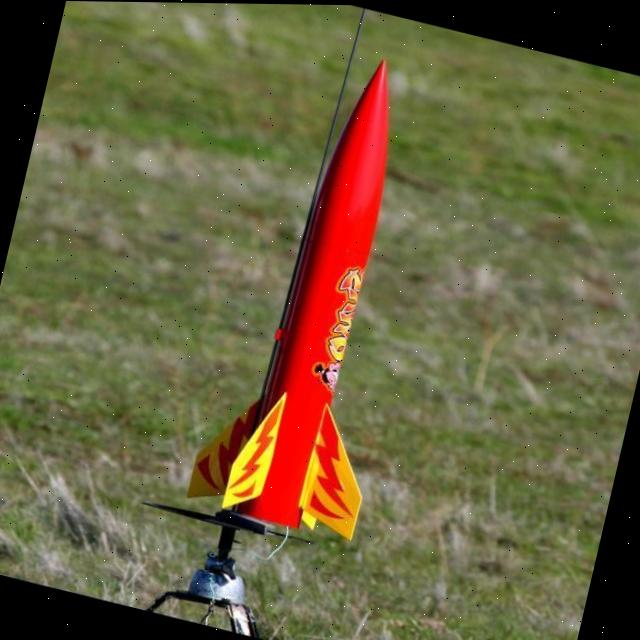missile: (168, 29, 463, 550)
